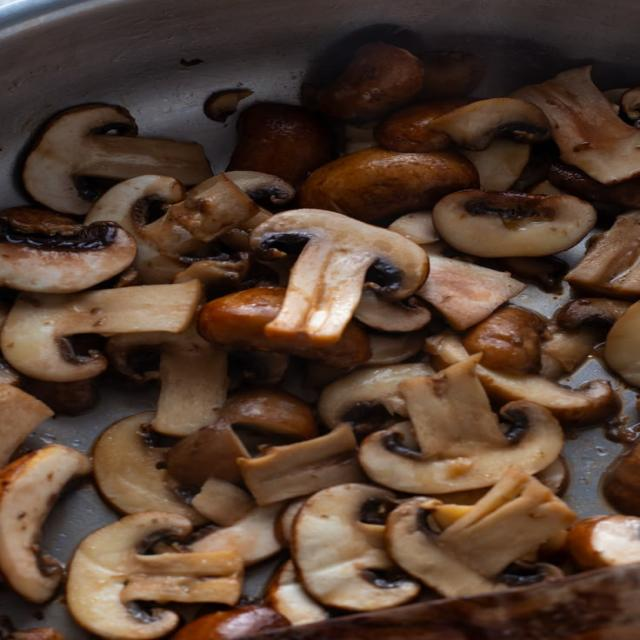champignon mushrooms: (359, 355, 563, 494), (386, 468, 575, 597), (251, 209, 428, 346), (67, 511, 243, 639), (23, 105, 211, 215), (0, 281, 201, 381), (86, 174, 261, 284), (292, 484, 419, 611), (512, 66, 639, 184), (167, 389, 317, 486), (0, 445, 91, 602), (198, 286, 370, 368), (106, 325, 228, 437), (300, 148, 479, 222), (93, 412, 206, 524), (433, 191, 596, 257), (0, 215, 136, 293), (238, 425, 364, 505), (304, 42, 424, 121), (476, 365, 620, 425), (227, 104, 332, 185), (416, 254, 525, 330), (318, 363, 433, 432), (565, 211, 639, 299), (181, 503, 283, 565), (428, 98, 549, 150), (167, 420, 250, 487), (462, 307, 545, 373), (374, 99, 468, 153), (0, 383, 53, 469), (548, 162, 639, 208), (172, 605, 289, 639), (266, 560, 328, 624), (567, 515, 639, 569), (461, 138, 531, 191), (354, 288, 431, 332), (192, 478, 254, 526), (423, 52, 486, 99), (605, 303, 639, 386), (602, 443, 639, 516), (367, 332, 425, 366), (388, 211, 439, 244), (203, 89, 253, 122), (620, 87, 639, 124)
